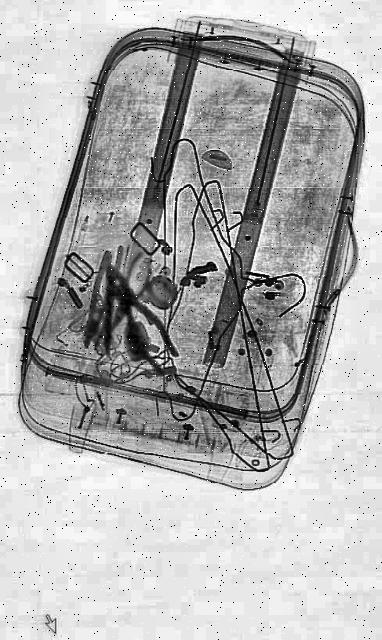Pliers: (105, 258, 181, 384), (76, 238, 130, 356), (103, 246, 158, 342)
